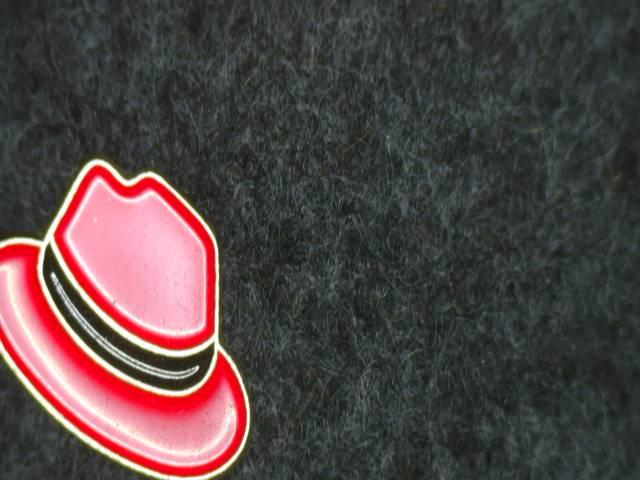Red-Hat: (0, 144, 288, 480)
